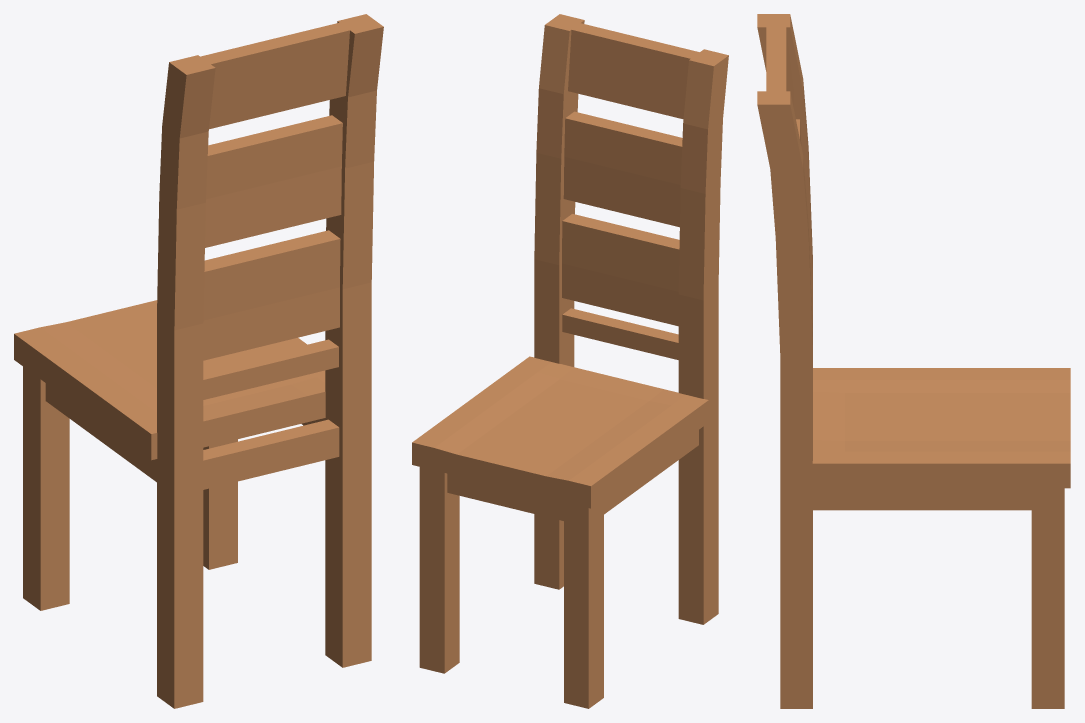
Rendered from diningchair.fbx.
The picture shows the model from 3 angles, left to right: view 1: azimuth 30°, elevation 25°; view 2: azimuth 150°, elevation 25°; view 3: azimuth 270°, elevation 25°; orthographic projection. The views are drawn at different scales.
Visible parts, largest first — view 1: Cube; view 2: Cube; view 3: Cube.
Part boxes in pixels (bbox=[...]): Cube: bbox=[14, 14, 383, 708]; Cube: bbox=[412, 14, 728, 708]; Cube: bbox=[757, 14, 1070, 708].
Size of the model in its own units: 224 by 659 by 310.
